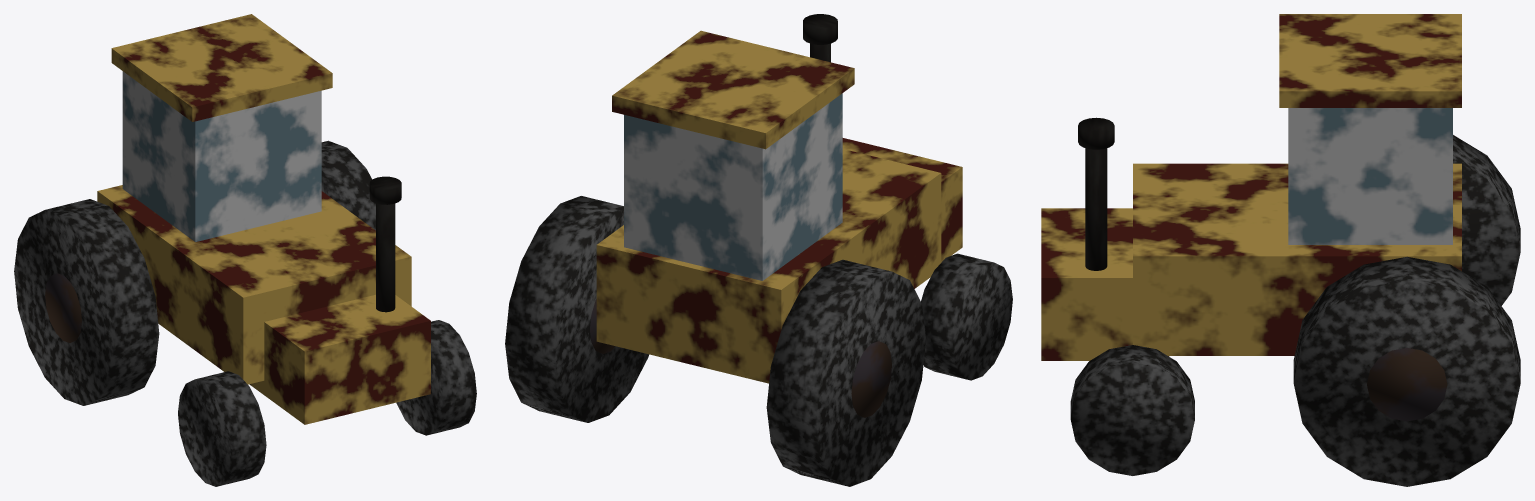
File: tractor.glb
3 renders of one model, left to right at view 1: azimuth 30°, elevation 25°; view 2: azimuth 150°, elevation 25°; view 3: azimuth 270°, elevation 25°, orthographic. The views are drawn at different scales.
Parts seen in each view (by area): view 1: tractor; view 2: tractor; view 3: tractor.
Boxes of the visible parts, <box> form: tractor: <box>14,14,476,486</box>; tractor: <box>505,14,1012,486</box>; tractor: <box>1041,14,1520,486</box>.
Size of the model in its own units: 2.04 by 2.15 by 2.62.
Materials: 5 (5 with a texture image).
